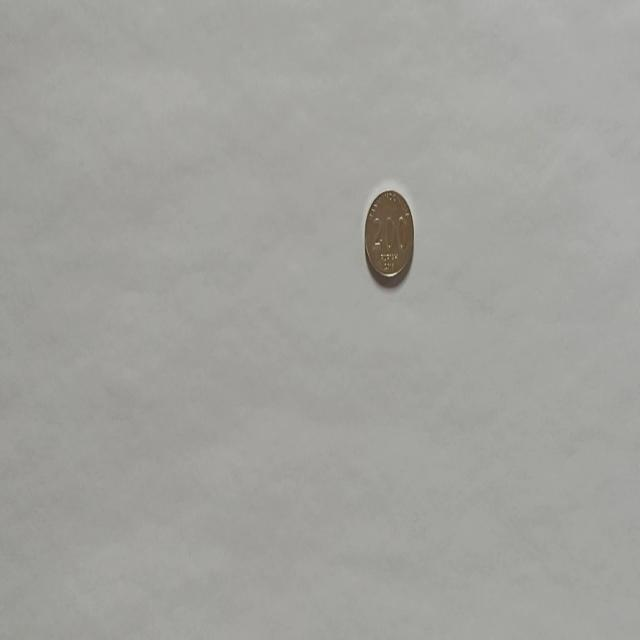dua ratus rupiah: (364, 186, 414, 284)
